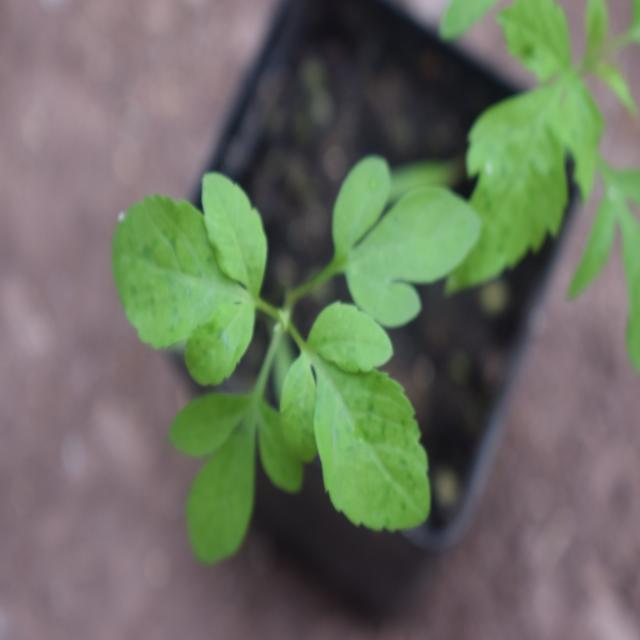Bidens pilosa: (100, 153, 473, 573)
